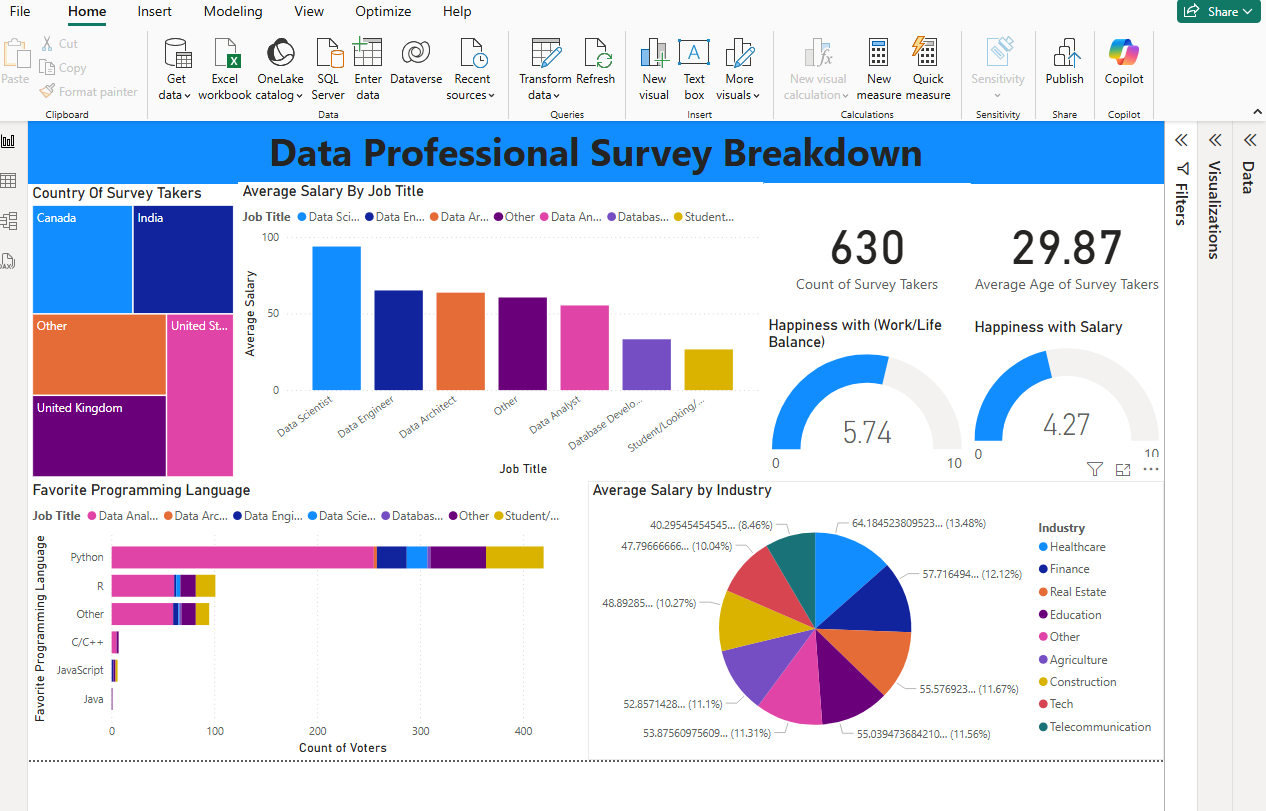

This screenshot's page, from the dashboard's own definition file:
{"tool":"powerbi","page":{"name":"Page 1","canvas":[1280,720],"ordinal":0},"visuals":[{"type":"textbox","box":[0,0,1280,70.8],"z":0},{"type":"card","fields":{"Values":["CountNonNull(Data Professional Survey.Unique ID)"]},"box":[829.3,70.1,232.9,151.5],"z":1000},{"type":"card","fields":{"Values":["Avg(Data Professional Survey.Q10 - Current Age)"]},"box":[1061.5,70.8,218.5,149.2],"z":2000},{"type":"columnChart","title":"Average Salary By Job Title","fields":{"Category":["Data Professional Survey.Q1 - Which Title Best Fits your Current Role?.1"],"Y":["Avg(Data Professional Survey.Average Salary)"],"Series":["Data Professional Survey.Q1 - Which Title Best Fits your Current Role?.1"]},"box":[236.9,69.2,592.3,336.9],"z":3000},{"type":"barChart","title":"Favorite Programming Language","fields":{"Category":["Data Professional Survey.Q5 - Favorite Programming Language.1"],"Y":["CountNonNull(Data Professional Survey.Unique ID)"],"Series":["Data Professional Survey.Q1 - Which Title Best Fits your Current Role?.1"]},"box":[0,406.2,630.8,313.8],"z":4000},{"type":"treemap","title":"Country Of Survey Takers","fields":{"Group":["Data Professional Survey.Q11 - Which Country do you live in?.1"],"Values":["Count(Data Professional Survey.Q11 - Which Country do you live in?.1)"]},"box":[0,70.8,236.9,335.4],"z":5000},{"type":"gauge","title":"Happiness with (Work/Life Balance) ","fields":{"Y":["Avg(Data Professional Survey.Q6 - How Happy are you in your Current Position with the following? (Work/Life Balance))"],"MinValue":["Min(Data Professional Survey.Q6 - How Happy are you in your Current Position with the following? (Work/Life Balance))1"],"MaxValue":["Max(Data Professional Survey.Q6 - How Happy are you in your Current Position with the following? (Work/Life Balance))2"]},"box":[829.2,220,232.3,186.2],"z":5001},{"type":"gauge","title":"Happiness with Salary","fields":{"Y":["Avg(Data Professional Survey.Q6 - How Happy are you in your Current Position with the following? (Salary))"],"MinValue":["Min(Data Professional Survey.Q6 - How Happy are you in your Current Position with the following? (Salary))"],"MaxValue":["Max(Data Professional Survey.Q6 - How Happy are you in your Current Position with the following? (Salary))"]},"box":[1061.5,221.5,218.5,184.6],"z":5002},{"type":"pieChart","title":"Average Salary by Industry","fields":{"Category":["Data Professional Survey.Q4 - What Industry do you work in?.1"],"Y":["Avg(Data Professional Survey.Average Salary)"]},"box":[630.8,406.2,649.2,313.8],"z":5003}]}

Visuals, with their boxes on the page's 1280x720 design canvas (x1, y1, x2, y2). These are canvas units, not pixel positions in the 1266x811 screenshot, which may show the page scaled, cropped or inside an application window:
textbox: <region>0, 0, 1280, 71</region>
card - CountNonNull(Data Professional Survey.Unique ID): <region>829, 70, 1062, 222</region>
card - Avg(Data Professional Survey.Q10 - Current Age): <region>1062, 71, 1280, 220</region>
"Average Salary By Job Title" columnChart: <region>237, 69, 829, 406</region>
"Favorite Programming Language" barChart: <region>0, 406, 631, 720</region>
"Country Of Survey Takers" treemap: <region>0, 71, 237, 406</region>
"Happiness with (Work/Life Balance) " gauge: <region>829, 220, 1062, 406</region>
"Happiness with Salary" gauge: <region>1062, 222, 1280, 406</region>
"Average Salary by Industry" pieChart: <region>631, 406, 1280, 720</region>
